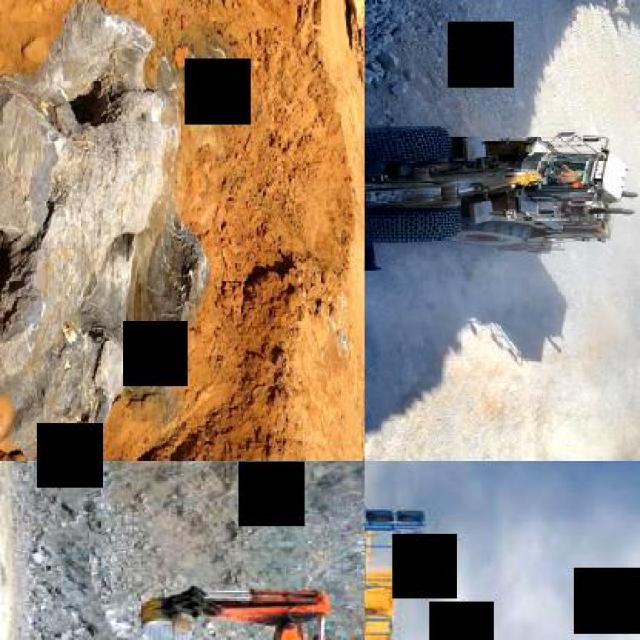buldozerpayloadergrader: (364, 123, 638, 277)
dump_truck: (364, 474, 454, 638)
excavator: (108, 576, 337, 638)
